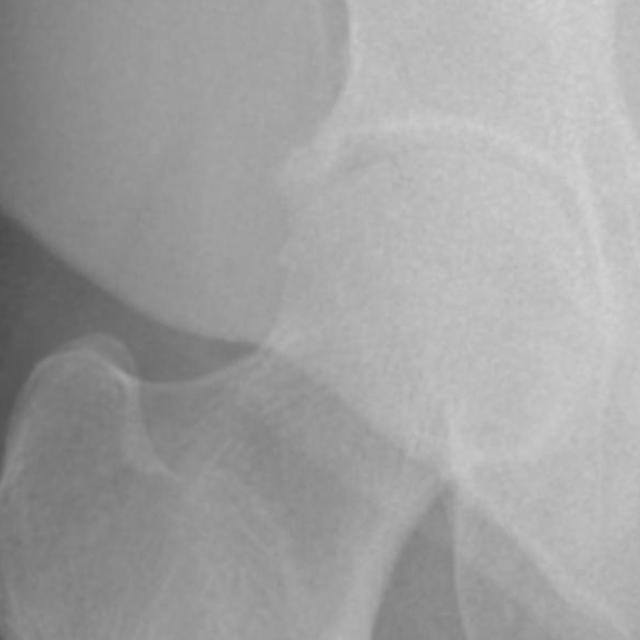Fitted_femural_head: (345, 139, 432, 345)
